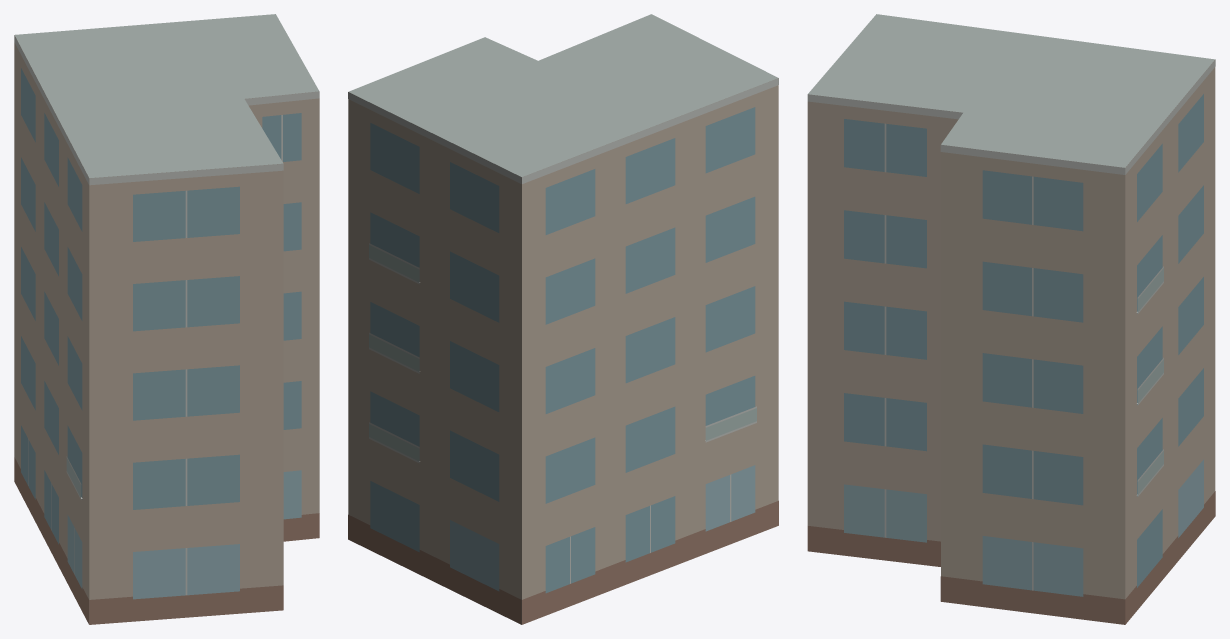
File: survey-upis-32874796.glb
3 views of the same model, side by side, from view 1: azimuth 30°, elevation 25°; view 2: azimuth 150°, elevation 25°; view 3: azimuth 270°, elevation 25° (orthographic). The views are drawn at different scales.
Visible parts, largest first — view 1: survey-upis-32874796.tmp; view 2: survey-upis-32874796.tmp; view 3: survey-upis-32874796.tmp.
Boxes of the visible parts, box(x1,y1,x2,y2) form: survey-upis-32874796.tmp: box(14, 14, 319, 624); survey-upis-32874796.tmp: box(348, 14, 778, 624); survey-upis-32874796.tmp: box(807, 14, 1215, 624).
Bounding box in the file's own units: 11.13 × 15.4 × 12.46.
